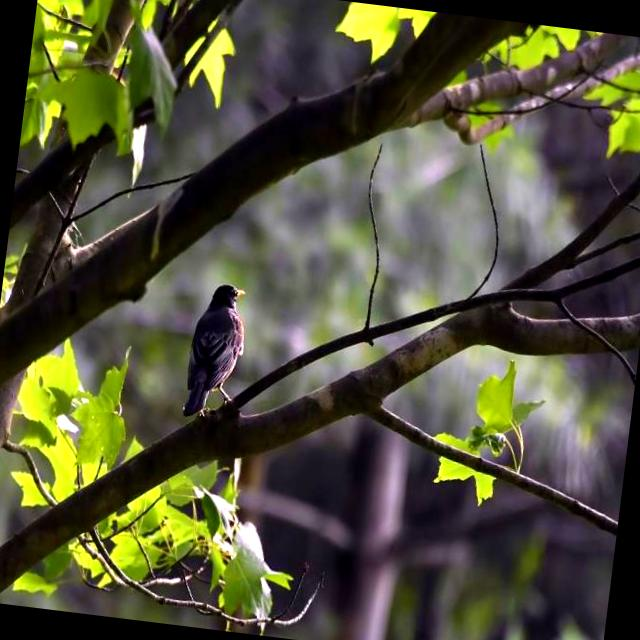bird: (160, 277, 254, 422)
